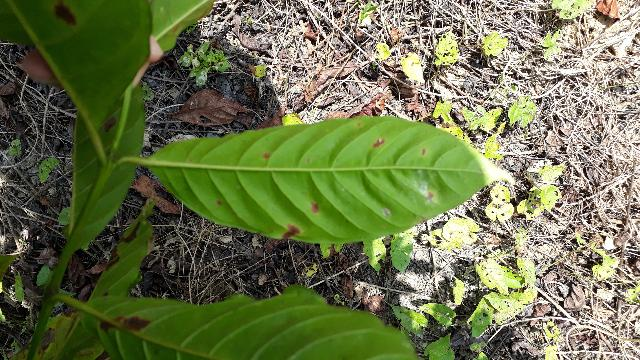rust_level_1: (129, 116, 491, 241)
